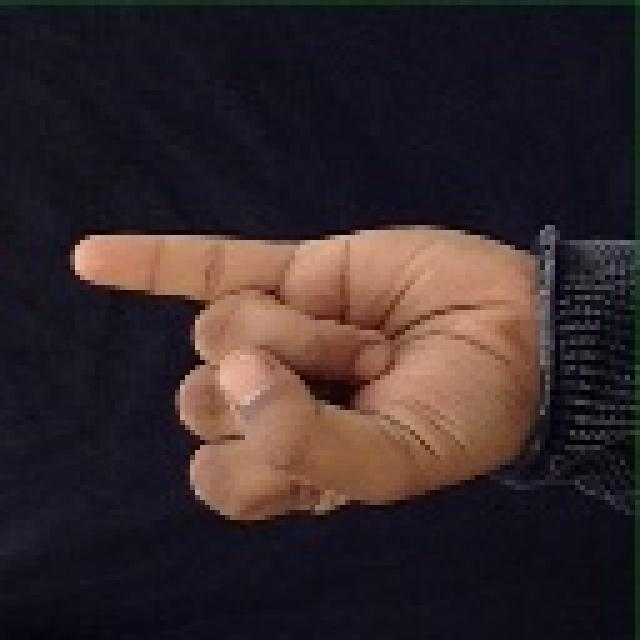Six: (28, 175, 580, 548)
